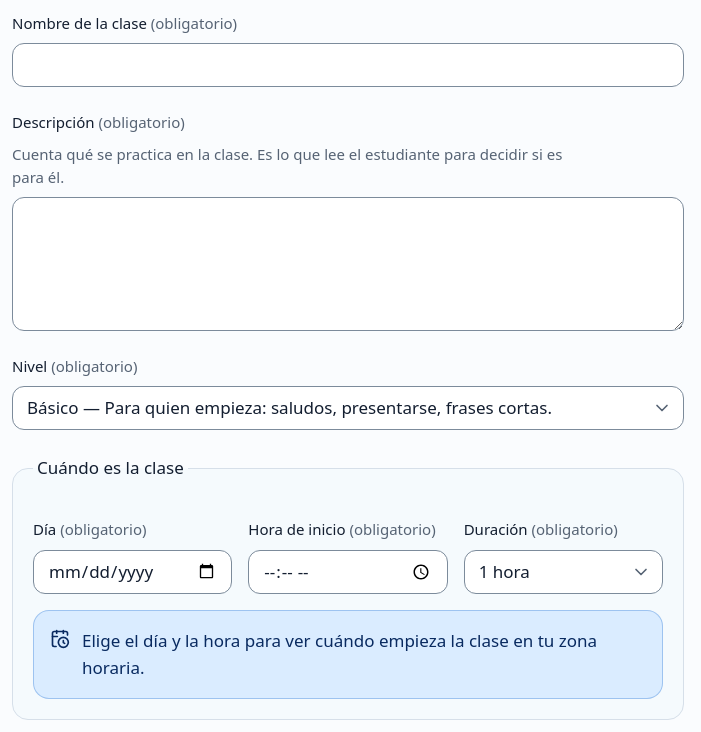
Test case: FormularioAula — confirmación del horario (B5, AC6) › al elegir día y hora confirma la fecha completa con la zona entre paréntesis
Type "2027-08-12" into the date field labelled "Día (obligatorio)" at [133, 572], box [33, 550, 232, 594]
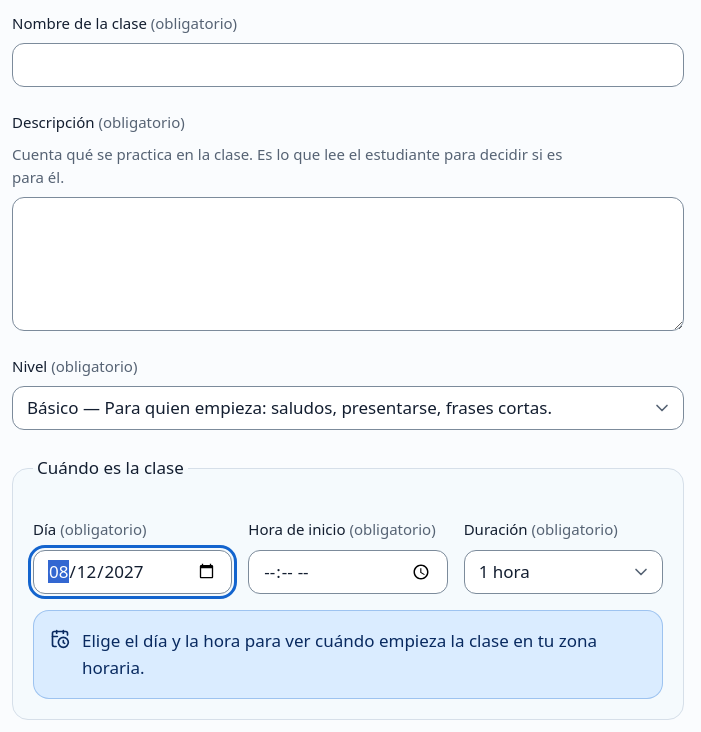
Type "18:00" into the time field labelled "Hora de inicio (obligatorio)" at [348, 572], box [248, 550, 448, 594]
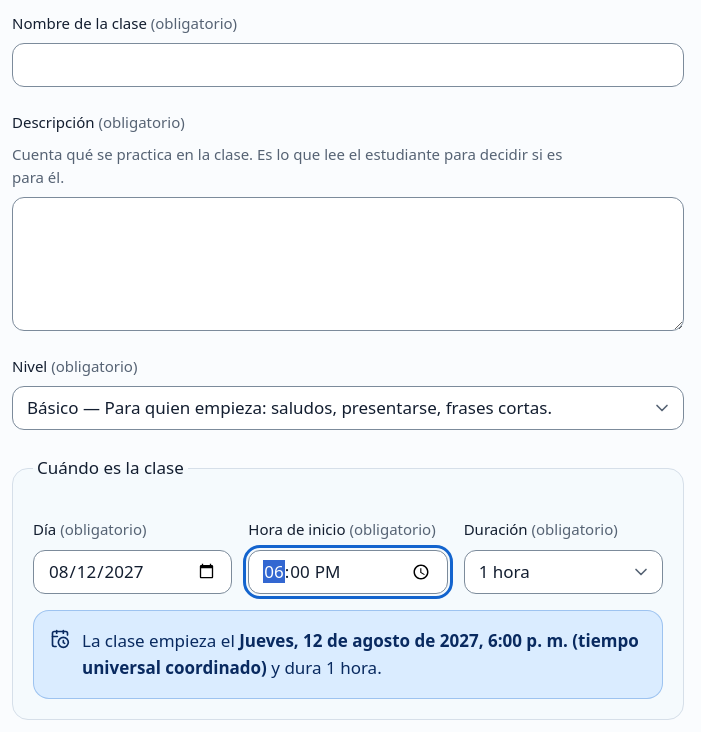
Expected: the text "6:00" is shown, [82, 629, 639, 679]
